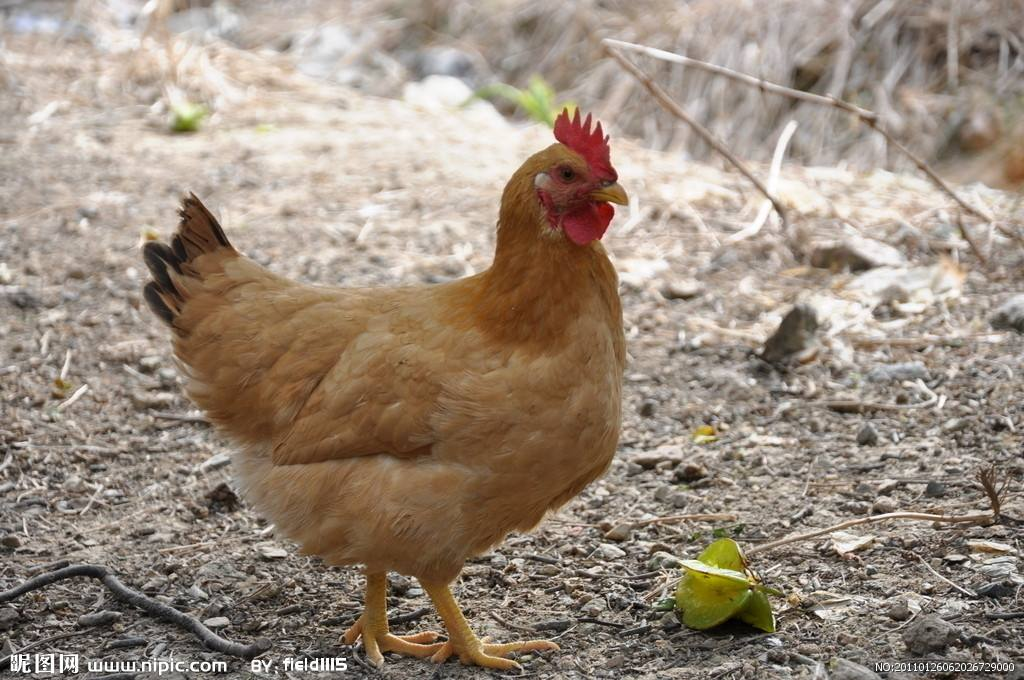chicken: (139, 97, 639, 672)
